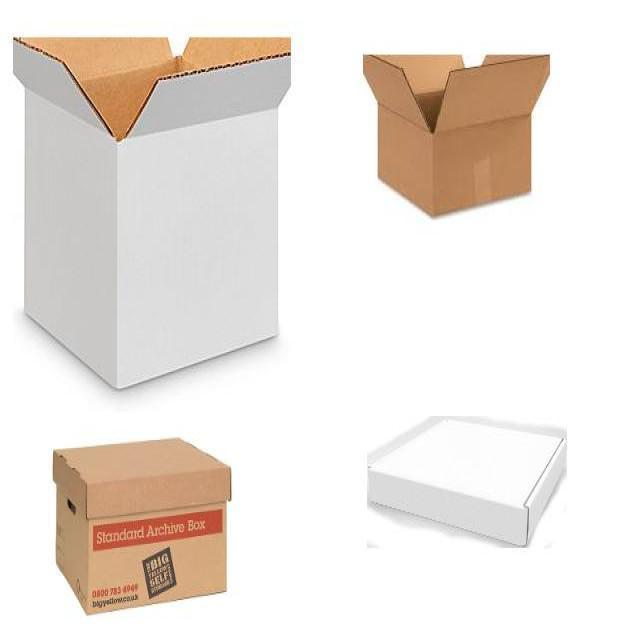Cardboard: (12, 36, 293, 391), (54, 431, 231, 615), (362, 50, 551, 217), (367, 412, 569, 546)
